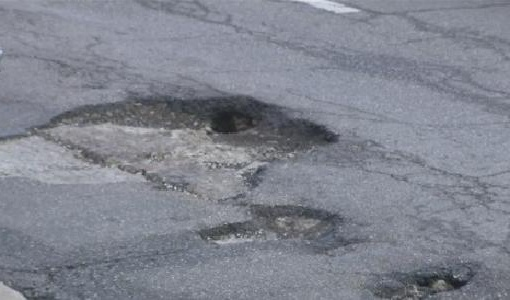pothole: (27, 91, 342, 201), (196, 201, 351, 247), (362, 259, 482, 299)
